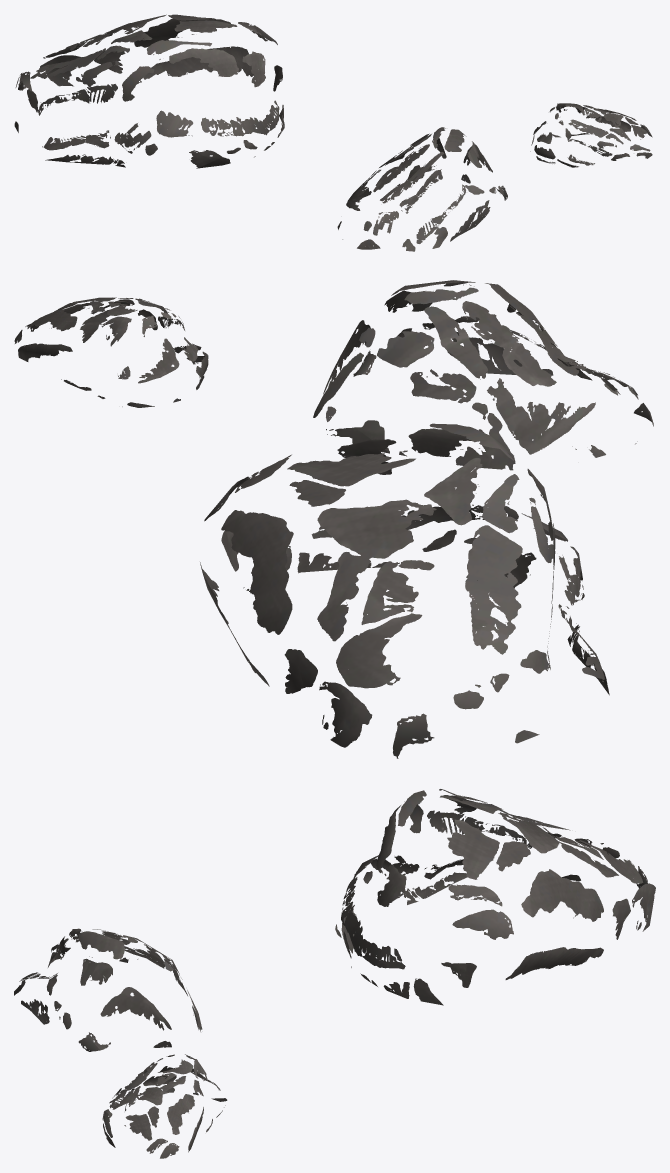
Rendered from SM_ENV_LKNVLD_RockMiddle_F.FBX.
The picture shows the model from 3 angles, top to bottom: view 1: azimuth 30°, elevation 25°; view 2: azimuth 150°, elevation 25°; view 3: azimuth 270°, elevation 25°; orthographic projection. The views are drawn at different scales.
Visible parts, largest first — view 1: SM_ENV_LKNVLD_RockMiddle_F; view 2: SM_ENV_LKNVLD_RockMiddle_F; view 3: SM_ENV_LKNVLD_RockMiddle_F.
Boxes of the visible parts, box(x1,y1,x2,y2) form: SM_ENV_LKNVLD_RockMiddle_F: box(14, 14, 652, 251); SM_ENV_LKNVLD_RockMiddle_F: box(14, 280, 653, 758); SM_ENV_LKNVLD_RockMiddle_F: box(14, 789, 655, 1158).
Size of the model in its own units: 429 by 95.37 by 401.
